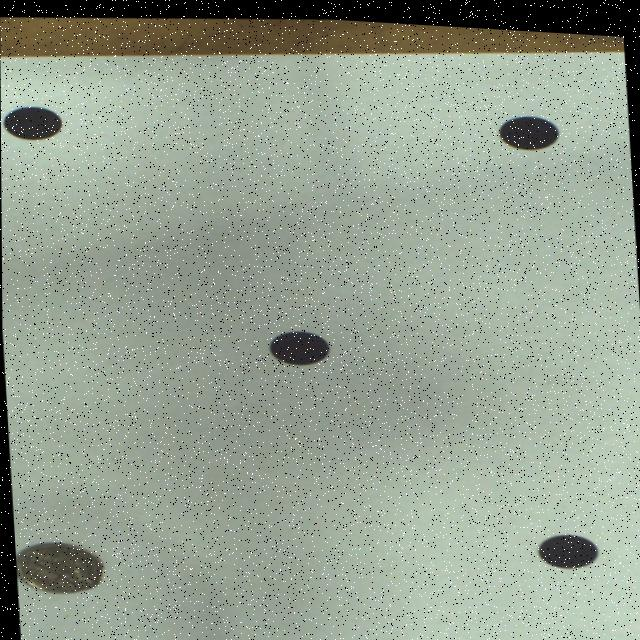space: (537, 526, 598, 561), (269, 327, 330, 360), (4, 106, 63, 139), (500, 110, 556, 142)
tail5bath: (15, 541, 103, 591)
